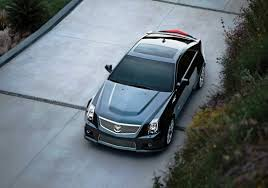car: (87, 26, 202, 159)
